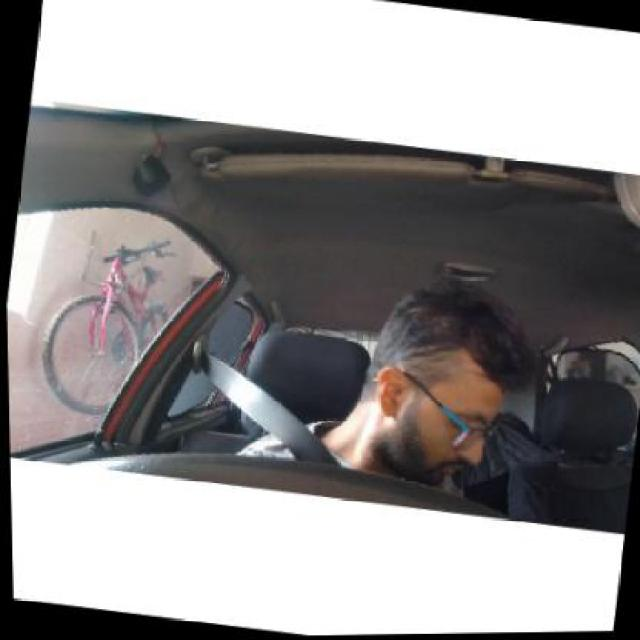drowsy: (372, 272, 523, 494)
